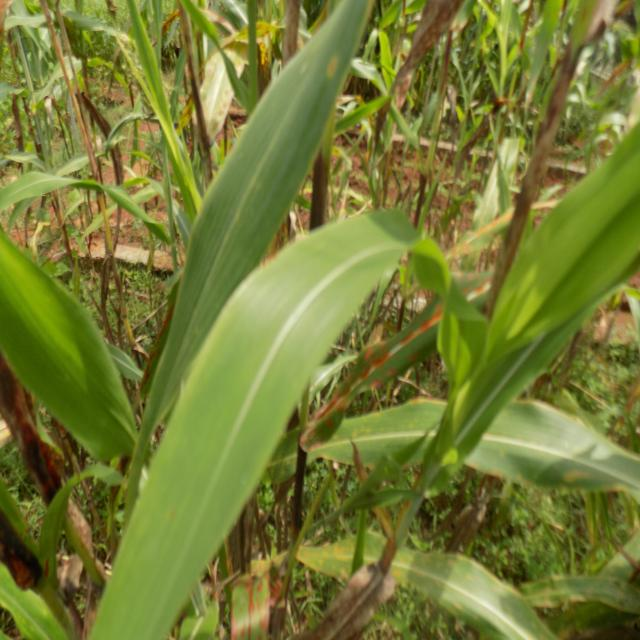millet_healthy: (81, 199, 487, 640), (113, 0, 392, 486)
